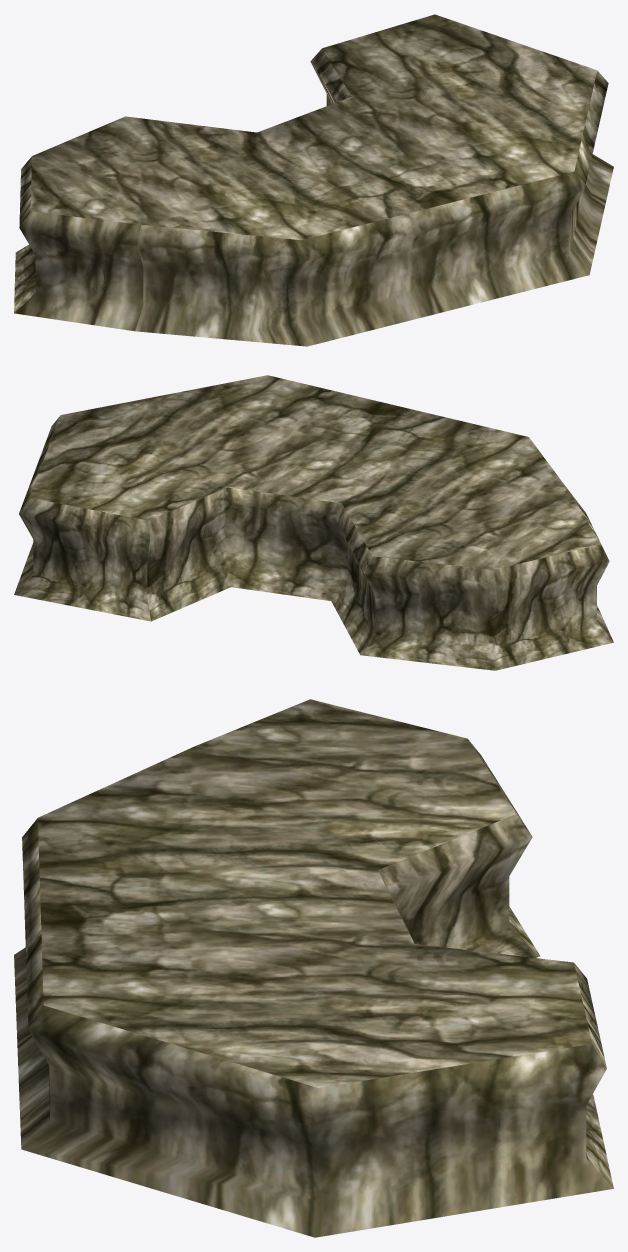
File: CB_NEWPLAYSURFACE_CB_PLAYSURFACE123.fbx
The picture shows the model from 3 angles, top to bottom: view 1: azimuth 30°, elevation 25°; view 2: azimuth 150°, elevation 25°; view 3: azimuth 270°, elevation 25°; orthographic projection. The views are drawn at different scales.
Parts seen in each view (by area): view 1: CB_NEWPLAYSURFACE_CB_PLAYSURFACE123; view 2: CB_NEWPLAYSURFACE_CB_PLAYSURFACE123; view 3: CB_NEWPLAYSURFACE_CB_PLAYSURFACE123.
Part boxes in pixels (x1,y1,x2,y2): CB_NEWPLAYSURFACE_CB_PLAYSURFACE123: [14, 14, 613, 346]; CB_NEWPLAYSURFACE_CB_PLAYSURFACE123: [14, 375, 613, 670]; CB_NEWPLAYSURFACE_CB_PLAYSURFACE123: [14, 699, 613, 1237].
Size of the model in its own units: 179160 by 28357 by 110843.
Materials: 2 (2 with a texture image).
